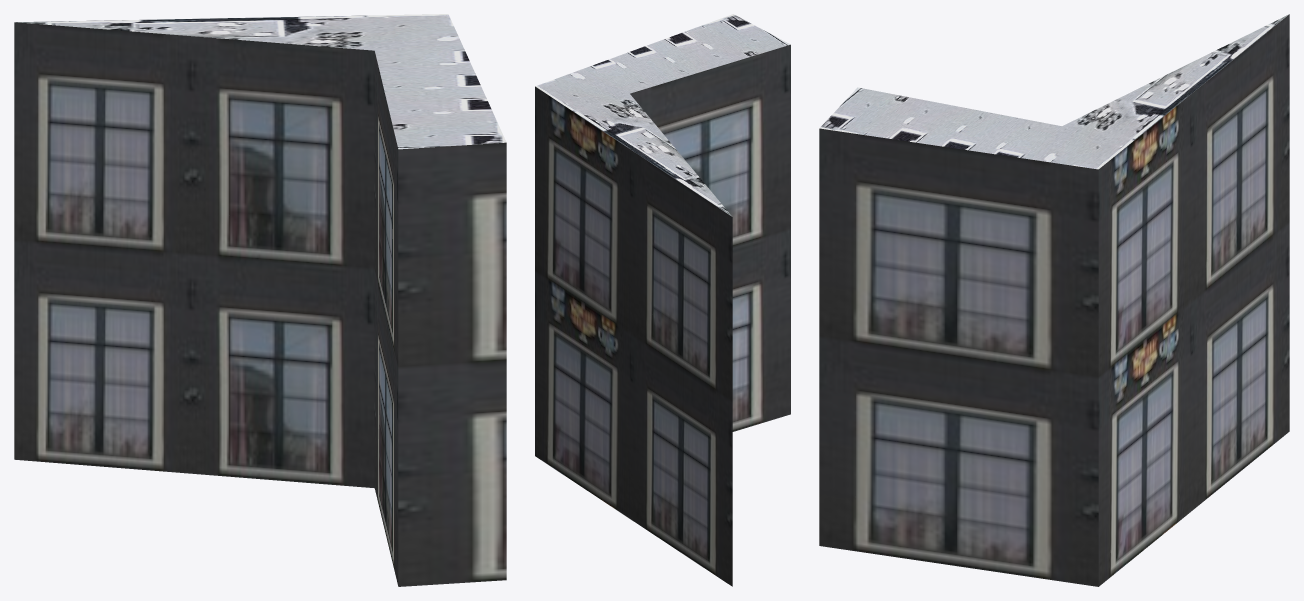
Rendered from ResTex__3526.fbx.
3 views of the same model, side by side, from view 1: azimuth 30°, elevation 25°; view 2: azimuth 150°, elevation 25°; view 3: azimuth 270°, elevation 25° (orthographic). The views are drawn at different scales.
Visible parts, largest first — view 1: CityEngineMaterial_22_m, CityEngineMaterial_m; view 2: CityEngineMaterial_22_m, CityEngineMaterial_m; view 3: CityEngineMaterial_22_m, CityEngineMaterial_m.
Part boxes in pixels (bbox=[...]): CityEngineMaterial_22_m: bbox=[14, 22, 506, 586]; CityEngineMaterial_m: bbox=[16, 14, 506, 149]; CityEngineMaterial_22_m: bbox=[535, 44, 790, 586]; CityEngineMaterial_m: bbox=[535, 14, 790, 216]; CityEngineMaterial_22_m: bbox=[819, 14, 1289, 586]; CityEngineMaterial_m: bbox=[819, 14, 1288, 169].
Bounding box in the file's own units: 4.79 × 6 × 6.13.
Materials: 2 (2 with a texture image).
